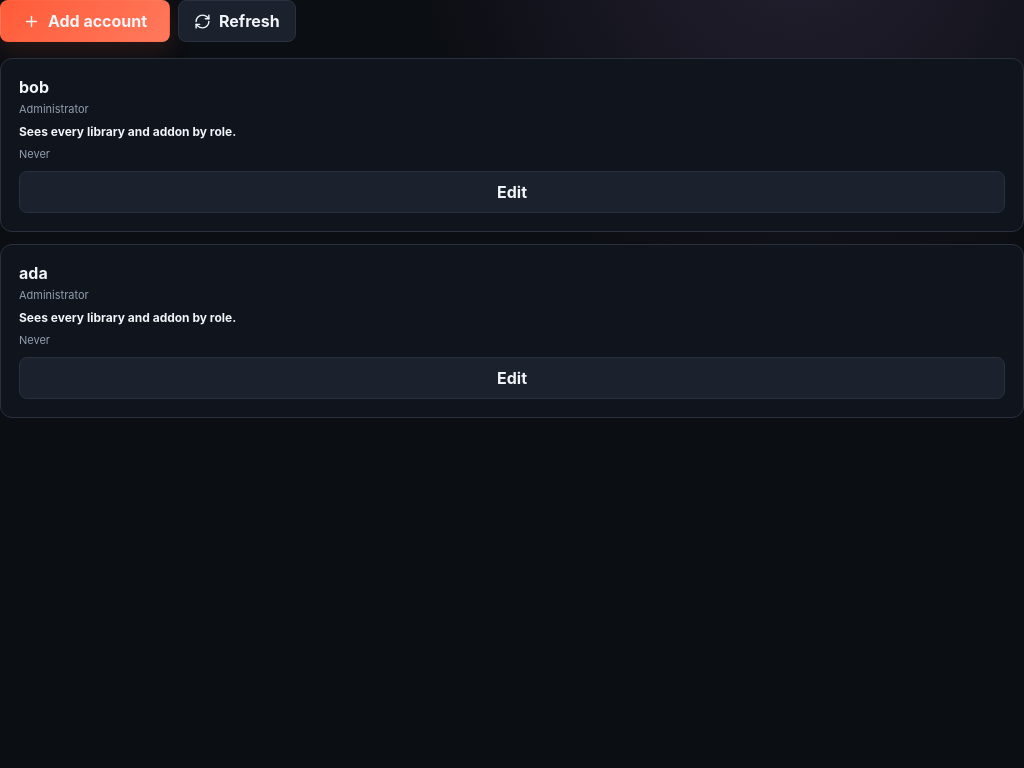
another enabled administrator unlocks the role, the switch and the delete button
Click the button "Edit" below "bob".
click(512, 192)  # box [19, 171, 1005, 213]
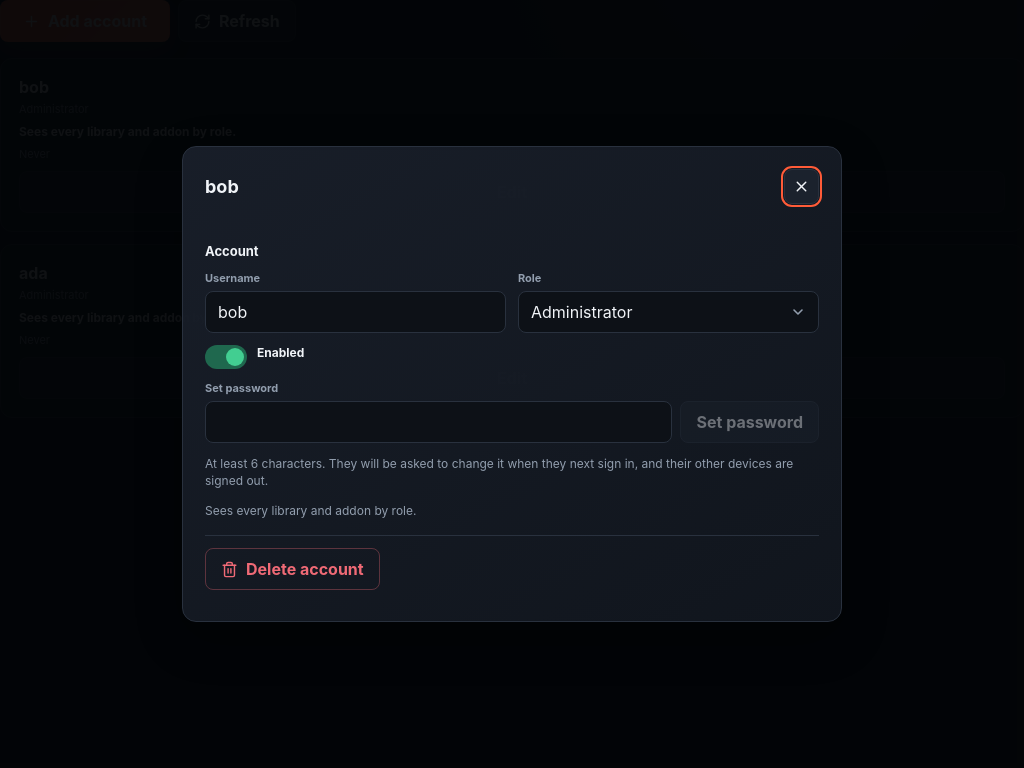
Check: the dropdown named "Role" is enabled, box [518, 291, 819, 333]
Check: the checkbox named "Enabled" is enabled, box [205, 345, 304, 369]
Check: the button "Delete account" is enabled, box [205, 548, 380, 590]
